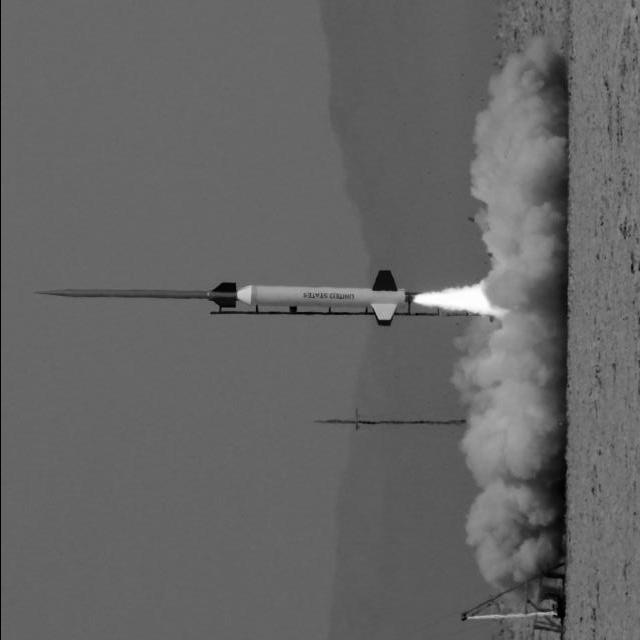missile: (29, 266, 408, 328), (217, 269, 405, 323), (23, 280, 240, 314)
